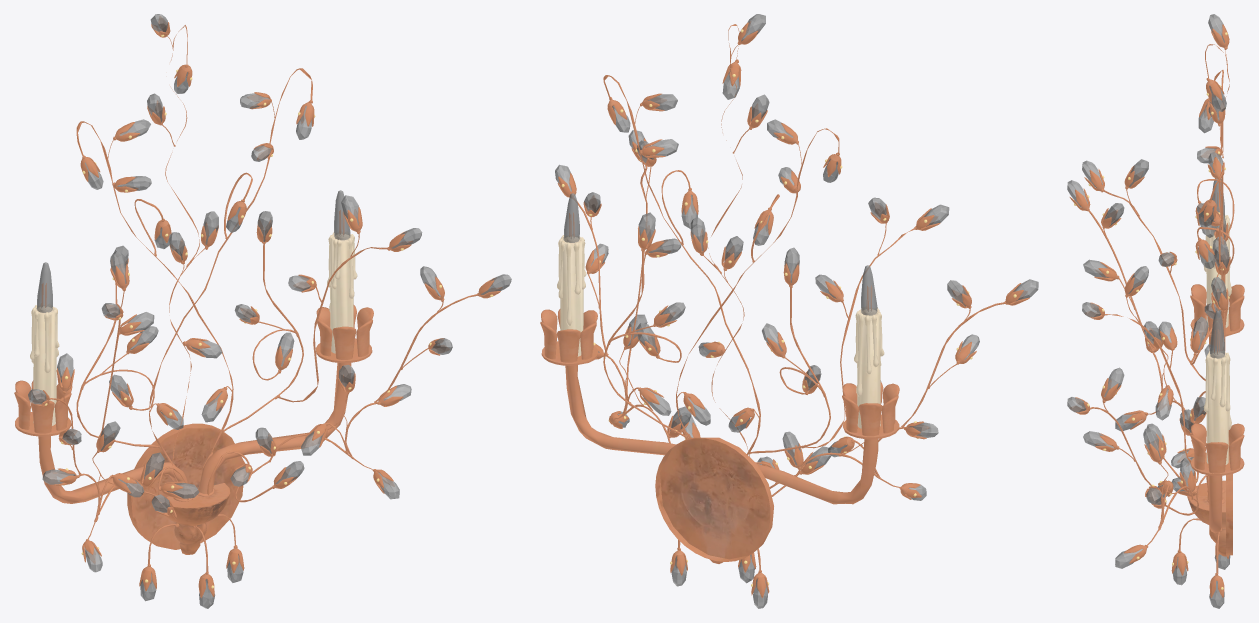
The model's file is copper_wall_sconce.glb.
3 renders of one model, left to right at view 1: azimuth 30°, elevation 25°; view 2: azimuth 150°, elevation 25°; view 3: azimuth 270°, elevation 25°, orthographic. The views are drawn at different scales.
Visible parts, largest first — view 1: Wall_plate, candel_holder_branch2 (×2), candel (×2), Holder, long_mid_branch (×2), pCylinder12, ligh_holder4; view 2: Wall_plate, candel_holder_branch2 (×2), candel (×2), pCylinder8 (×2), long_mid_branch, ligh_holder4; view 3: Crystal_fixed_main17 (×13), candel (×2), crystal_holder17 (×8), Holder, branch_5 (×2), candel_holder_branch2, pCylinder9 (×2), pCylinder11 (×2), candel_holder_base2 (×2), long_mid_branch (×2), pCylinder10, Wall_plate (+4 smaller).
Boxes of the visible parts, left/top/right/bottom form: Wall_plate: left=127, top=423, right=244, bottom=549; candel_holder_branch2 (×2): left=38, top=363, right=351, bottom=503; candel (×2): left=33, top=233, right=353, bottom=425; Holder: left=157, top=483, right=230, bottom=554; long_mid_branch (×2): left=76, top=68, right=312, bottom=462; pCylinder12: left=332, top=326, right=356, bottom=359; ligh_holder4: left=36, top=262, right=52, bottom=312; Wall_plate: left=655, top=437, right=773, bottom=561; candel_holder_branch2 (×2): left=565, top=365, right=878, bottom=504; candel (×2): left=560, top=236, right=880, bottom=428; pCylinder8 (×2): left=557, top=329, right=882, bottom=436; long_mid_branch: left=603, top=75, right=760, bottom=454; ligh_holder4: left=861, top=265, right=877, bottom=315; Crystal_fixed_main17 (×13): left=1083, top=103, right=1229, bottom=568; candel (×2): left=1206, top=215, right=1228, bottom=464; crystal_holder17 (×8): left=1101, top=79, right=1228, bottom=575; Holder: left=1187, top=480, right=1225, bottom=556; branch_5 (×2): left=1103, top=190, right=1205, bottom=462; candel_holder_branch2: left=1208, top=475, right=1222, bottom=533; pCylinder9 (×2): left=1228, top=295, right=1244, bottom=470; pCylinder11 (×2): left=1190, top=295, right=1205, bottom=470; candel_holder_base2 (×2): left=1190, top=314, right=1244, bottom=475; long_mid_branch (×2): left=1210, top=70, right=1223, bottom=476; pCylinder10: left=1205, top=442, right=1228, bottom=473; Wall_plate: left=1226, top=437, right=1232, bottom=555.
Bounding box in the file's own units: 11.13 × 13 × 3.75.
Materials: 2 (1 with a texture image).
